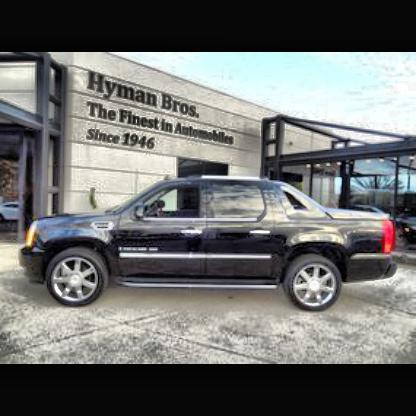Cadillac Escalade EXT Crew Cab 2007: (22, 181, 397, 312)
